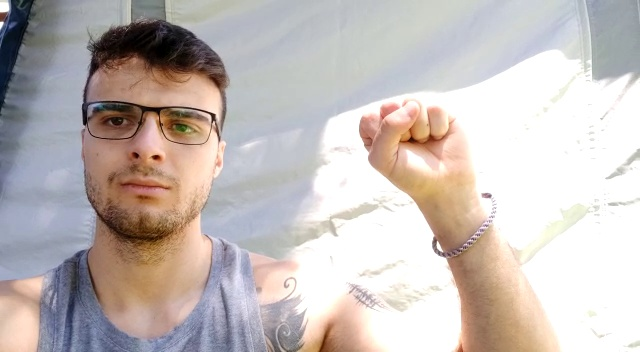Fist: (351, 93, 482, 208)
